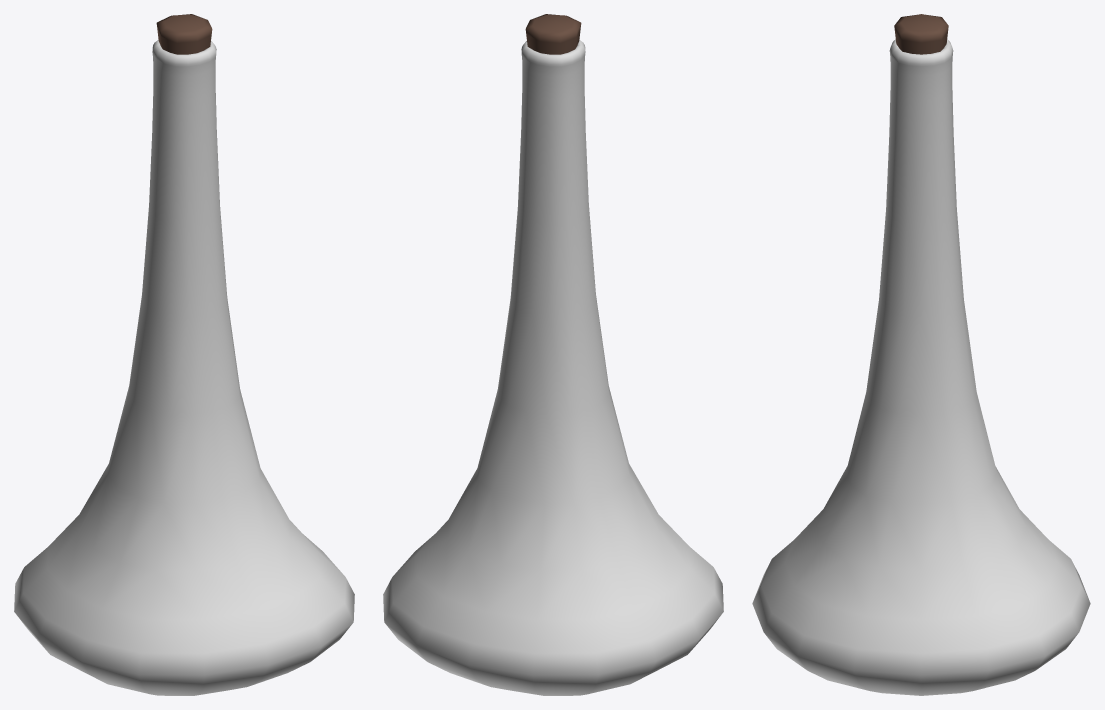
Rendered from SM_Potion7_Filled.fbx.
3 renders of one model, left to right at view 1: azimuth 30°, elevation 25°; view 2: azimuth 150°, elevation 25°; view 3: azimuth 270°, elevation 25°, orthographic.
Visible parts, largest first — view 1: SM_Potion7_Filled; view 2: SM_Potion7_Filled; view 3: SM_Potion7_Filled.
Part boxes in pixels (x1=…): SM_Potion7_Filled: x1=14, y1=14, x2=354, y2=695; SM_Potion7_Filled: x1=383, y1=14, x2=723, y2=695; SM_Potion7_Filled: x1=752, y1=14, x2=1090, y2=695.
Bounding box in the file's own units: 70.35 × 151 × 70.35.
